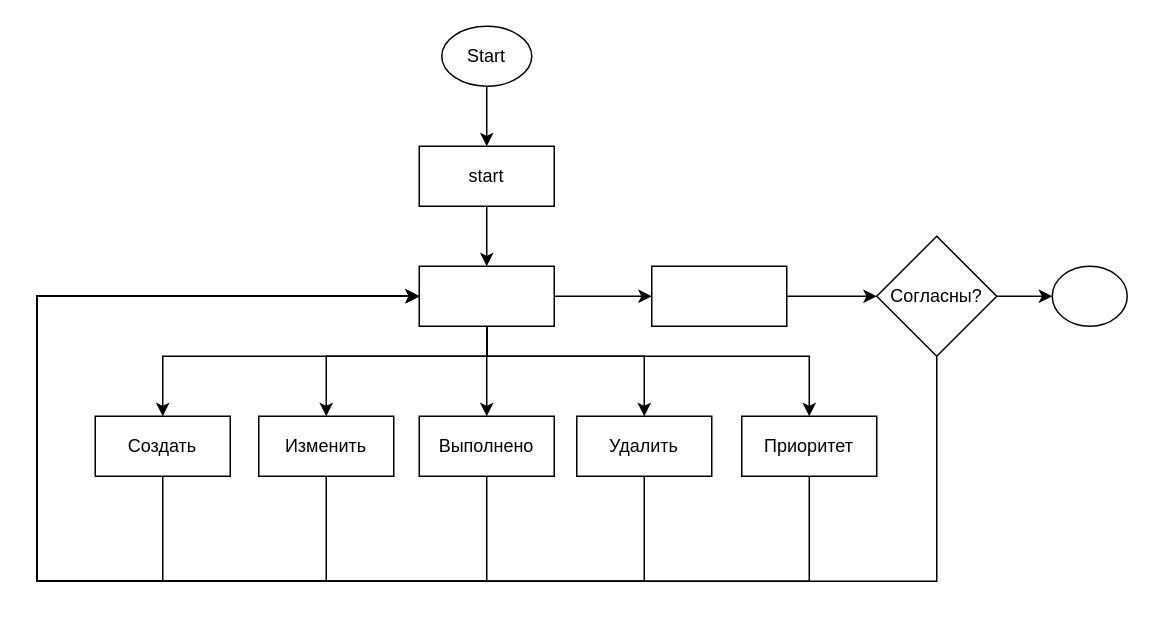
This 1154x620 diagram has some shape labels left out. Here are the shapes that lost their labels. From the top down, the centre of each, then its label:
At [486,295]: "Controller".
At [718,295]: "Выйти".
At [1089,295]: "Finish".
